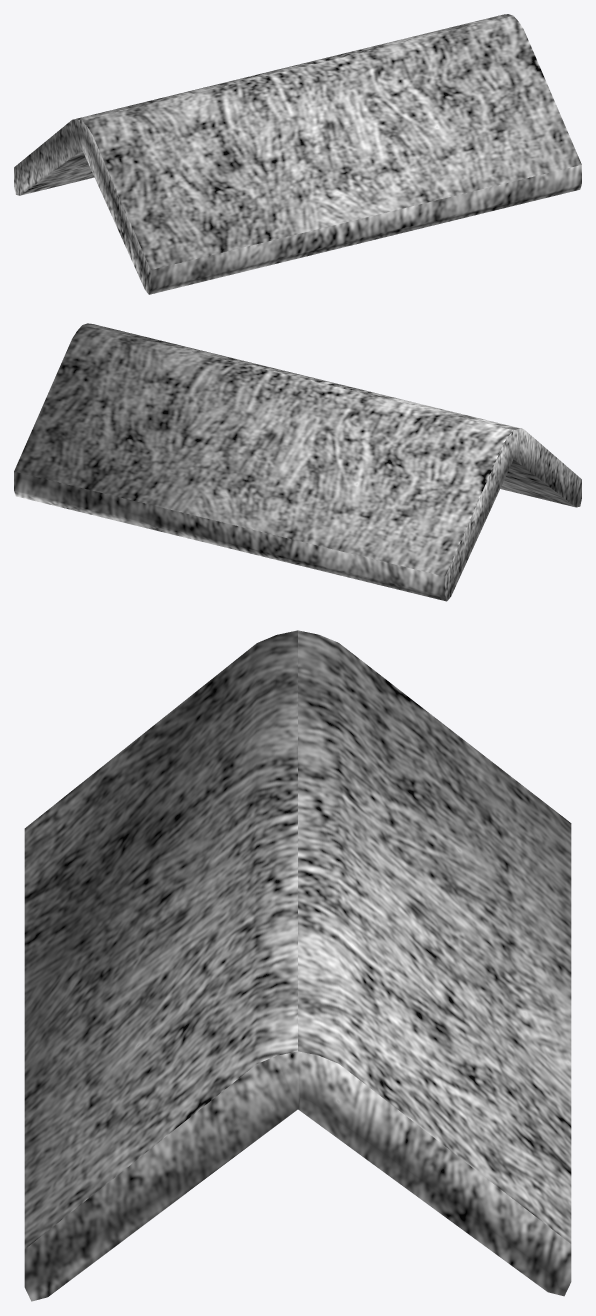
Rendered from techo_pozo.fbx.
3 renders of one model, top to bottom at view 1: azimuth 30°, elevation 25°; view 2: azimuth 150°, elevation 25°; view 3: azimuth 270°, elevation 25°, orthographic. The views are drawn at different scales.
Parts seen in each view (by area): view 1: techo_pozo; view 2: techo_pozo; view 3: techo_pozo.
Part boxes in pixels (x1,y1,x2,y2): techo_pozo: (14, 14, 581, 294); techo_pozo: (14, 323, 581, 601); techo_pozo: (24, 630, 571, 1301).
Bounding box in the file's own units: 364 × 101 × 200.
